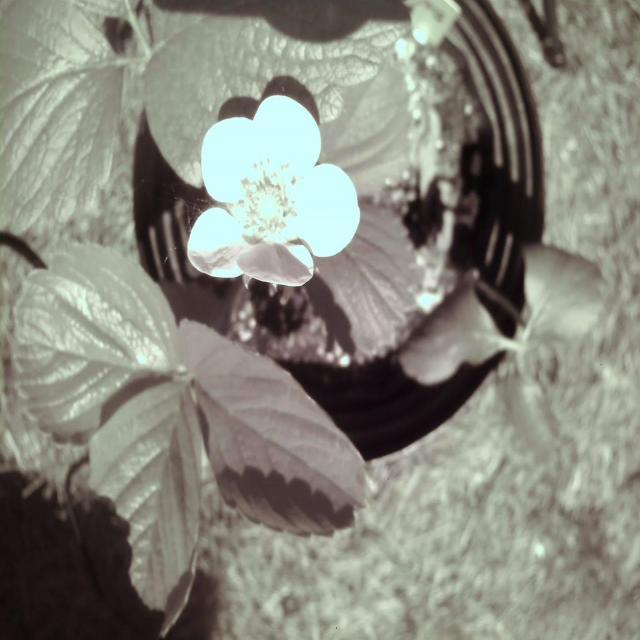flower: (188, 76, 362, 290)
